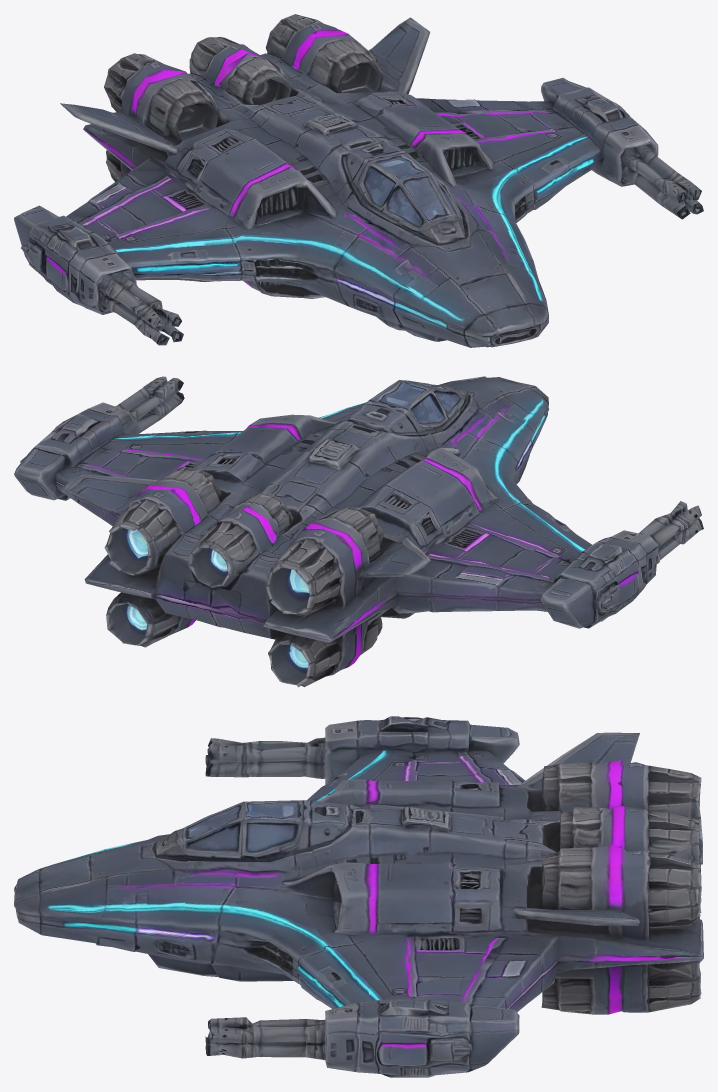
Rendered from mini-starfighter.glb.
The picture shows the model from 3 angles, top to bottom: view 1: azimuth 30°, elevation 25°; view 2: azimuth 150°, elevation 25°; view 3: azimuth 270°, elevation 25°; orthographic projection. The views are drawn at different scales.
Visible parts, largest first — view 1: body; view 2: body; view 3: body.
Part boxes in pixels (bbox=[...]): body: bbox=[14, 14, 703, 347]; body: bbox=[14, 376, 703, 687]; body: bbox=[14, 716, 703, 1077].
Bounding box in the file's own units: 0.998 × 0.2372 × 0.9226.
1 material, 1 textured.
